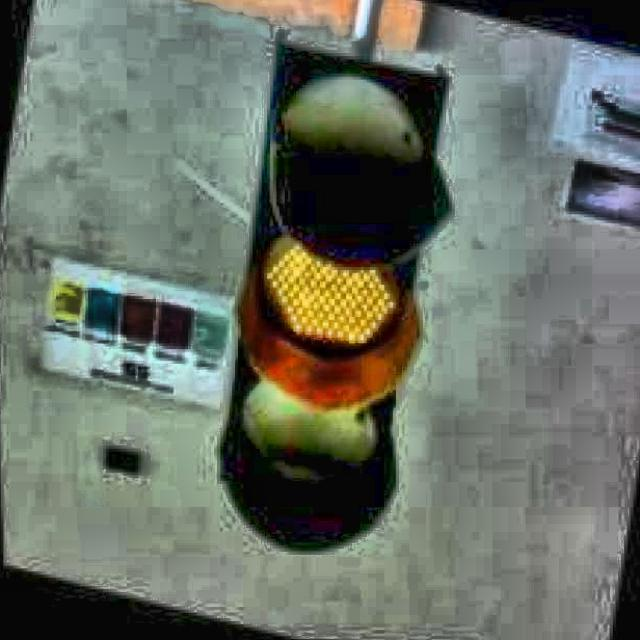yellow: (234, 66, 438, 529)
